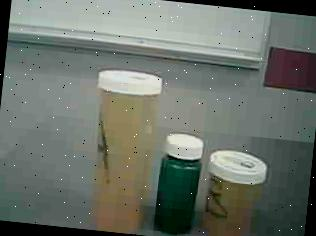Bottle A: (77, 63, 166, 236)
Bottle B: (201, 145, 273, 236)
Bottle C: (152, 129, 205, 236)
